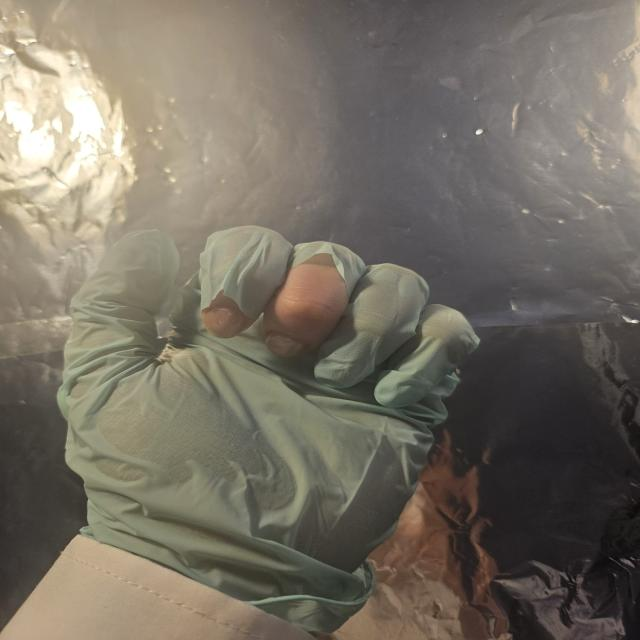gloves_damaged: (58, 223, 483, 640)
